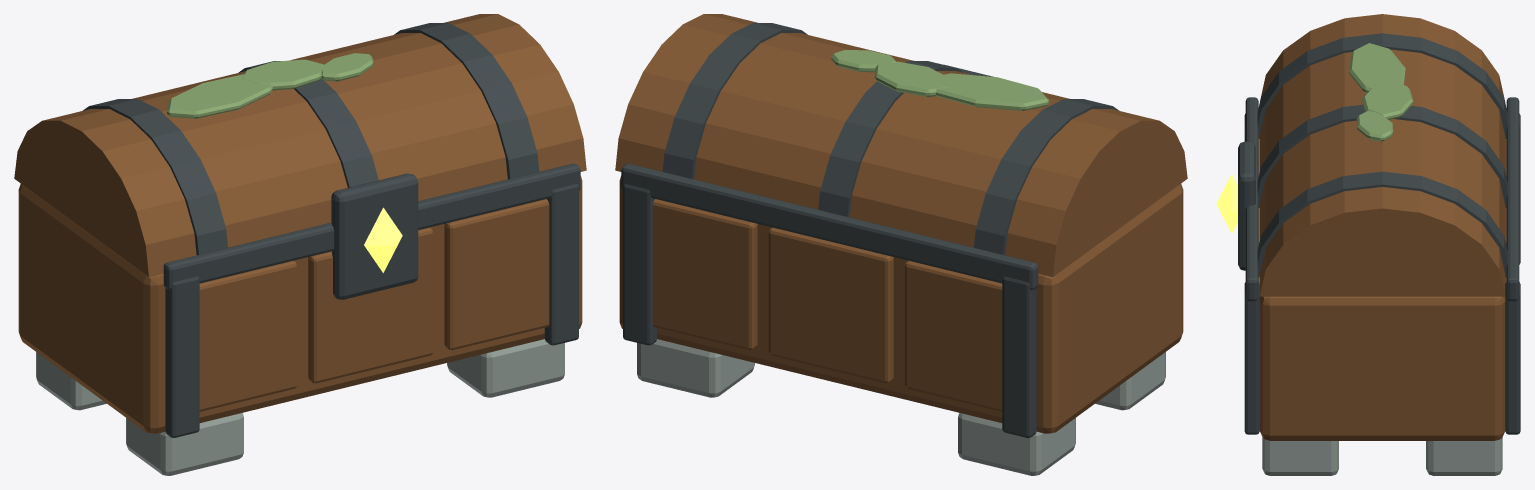
The model's file is SM_EmbermereSupplyChest_01.fbx.
3 views of the same model, side by side, from view 1: azimuth 30°, elevation 25°; view 2: azimuth 150°, elevation 25°; view 3: azimuth 270°, elevation 25° (orthographic). The views are drawn at different scales.
Visible parts, largest first — view 1: SM_EmbermereSupplyChest_01; view 2: SM_EmbermereSupplyChest_01; view 3: SM_EmbermereSupplyChest_01.
Boxes of the visible parts, bbox=[...] form: SM_EmbermereSupplyChest_01: bbox=[14, 14, 586, 475]; SM_EmbermereSupplyChest_01: bbox=[615, 14, 1187, 475]; SM_EmbermereSupplyChest_01: bbox=[1216, 14, 1520, 475].
Size of what is drawn, in the model's own units: 180 by 119 by 123.
